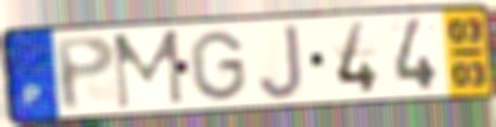4: (392, 15, 441, 93), (333, 20, 380, 96)
G: (186, 28, 250, 104)
J: (256, 21, 306, 102)
M: (109, 27, 186, 112)
P: (51, 33, 120, 113)
